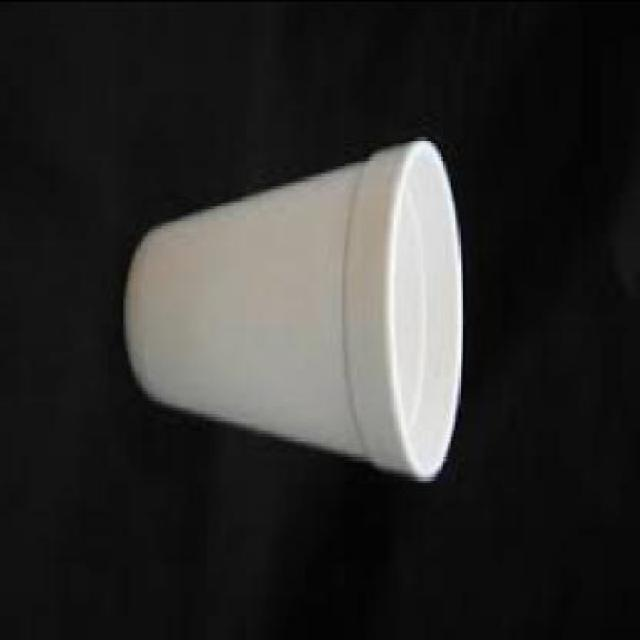PAPER: (128, 142, 468, 484)
